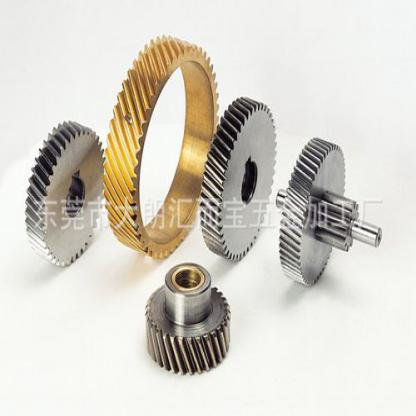FOD: (105, 29, 221, 260), (198, 93, 279, 260), (25, 113, 106, 272), (276, 134, 347, 291), (142, 262, 234, 381)
